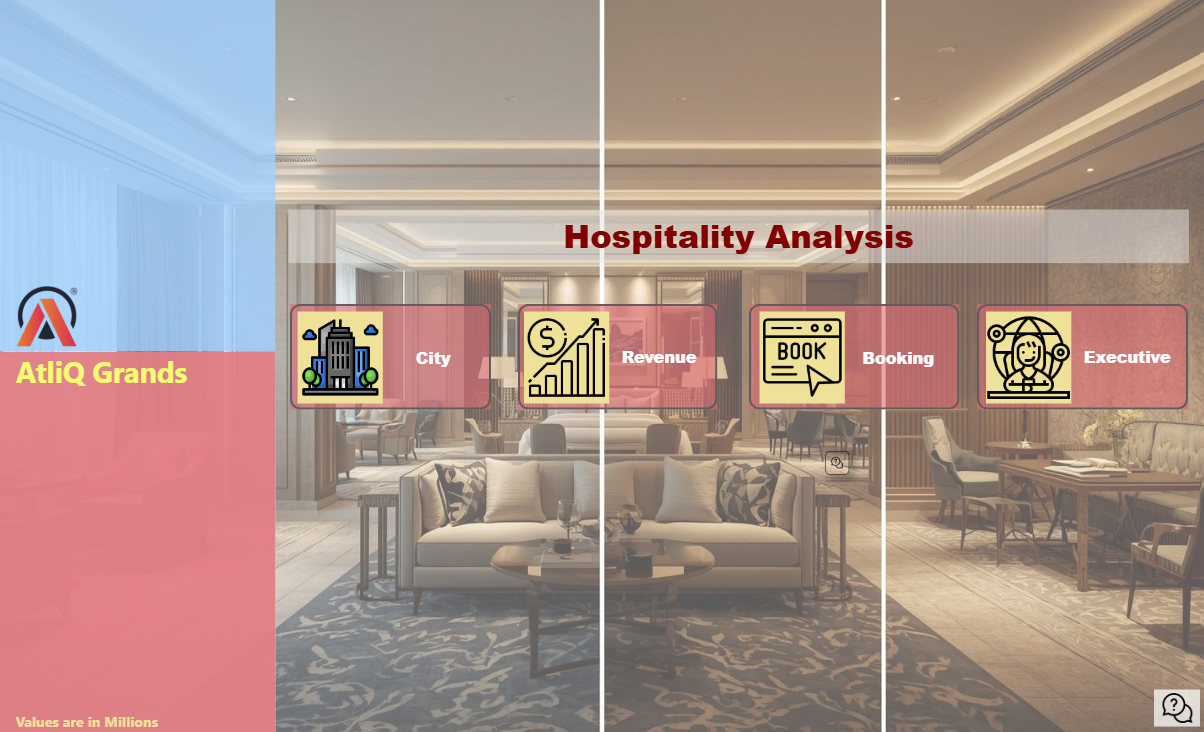

Layout of this report page (visuals, bound fields, positions):
{"tool":"powerbi","page":{"name":"Home","canvas":[1800,1100],"ordinal":0},"visuals":[{"type":"image","box":[20,422.5,105,102.5],"z":0,"group":"g1"},{"type":"shape","box":[0,527.5,412.5,572.5],"z":0},{"type":"textbox","box":[20,1060,240,40],"z":1000},{"type":"image","title":"Support Icon","box":[1233.3,676.7,35,35],"z":3000},{"type":"shape","box":[0,0,412.5,527.5],"z":5000},{"type":"group","id":"g1","title":"Group 1","box":[20,422.5,105,102.5],"z":6000},{"type":"actionButton","box":[1460,457.8,315,157.5],"z":9000},{"type":"actionButton","box":[433.3,457.8,300,157.5],"z":10000},{"type":"actionButton","box":[774.2,457.8,297.5,157.5],"z":11000},{"type":"actionButton","box":[1120,457.8,314,157.5],"z":12000},{"type":"textbox","box":[20,525,317.5,72.5],"z":13000},{"type":"image","box":[1473,467.8,127.5,137.5],"z":14000},{"type":"image","box":[784.3,467.8,127.5,137.5],"z":15000},{"type":"image","box":[1136,467.8,127.5,137.5],"z":16000},{"type":"image","box":[446.3,467.8,127.5,137.5],"z":17000},{"type":"textbox","box":[1615,512.8,150,47.5],"z":18000},{"type":"textbox","box":[573.3,514.1,150,45],"z":19000},{"type":"textbox","box":[911.3,513.5,148.2,46.2],"z":20000},{"type":"textbox","box":[1268,514.1,150,45],"z":21000},{"type":"textbox","box":[432.6,315.9,1343.8,80.2],"z":22000},{"type":"image","title":"Support Button","box":[1725,1032.5,70,55],"z":23000}]}

Visuals, with their boxes in screenshot pixels (x1, y1, x2, y2), scaled from the page's 1800x1100 canvas onto the 1204x732 screenshot:
image: bbox=[13, 281, 84, 349]
shape: bbox=[0, 351, 276, 731]
textbox: bbox=[13, 705, 174, 731]
"Support Icon" image: bbox=[825, 450, 848, 474]
shape: bbox=[0, 0, 276, 351]
"Group 1" group: bbox=[13, 281, 84, 349]
actionButton: bbox=[977, 305, 1187, 409]
actionButton: bbox=[290, 305, 490, 409]
actionButton: bbox=[518, 305, 717, 409]
actionButton: bbox=[749, 305, 959, 409]
textbox: bbox=[13, 349, 226, 398]
image: bbox=[985, 311, 1071, 403]
image: bbox=[525, 311, 610, 403]
image: bbox=[760, 311, 845, 403]
image: bbox=[299, 311, 384, 403]
textbox: bbox=[1080, 341, 1181, 373]
textbox: bbox=[383, 342, 484, 372]
textbox: bbox=[610, 342, 709, 372]
textbox: bbox=[848, 342, 948, 372]
textbox: bbox=[289, 210, 1188, 264]
"Support Button" image: bbox=[1154, 687, 1201, 724]
